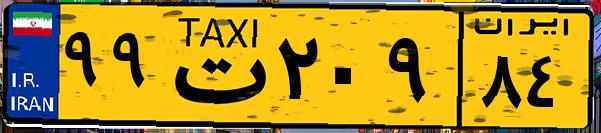0: (330, 28, 385, 110)
2: (270, 28, 330, 110)
4: (525, 38, 570, 115)
8: (475, 38, 525, 113)
9: (385, 28, 445, 110), (57, 26, 110, 100), (110, 28, 158, 98)
ت: (158, 12, 270, 120)
